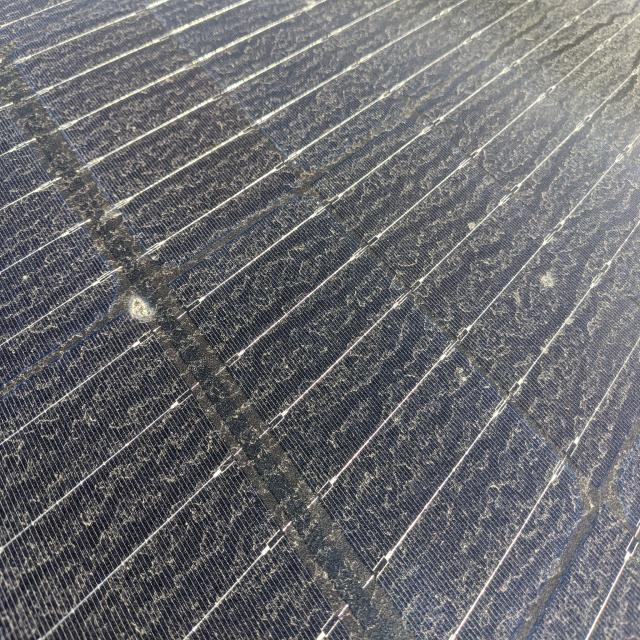Dusty: (3, 7, 639, 637)
